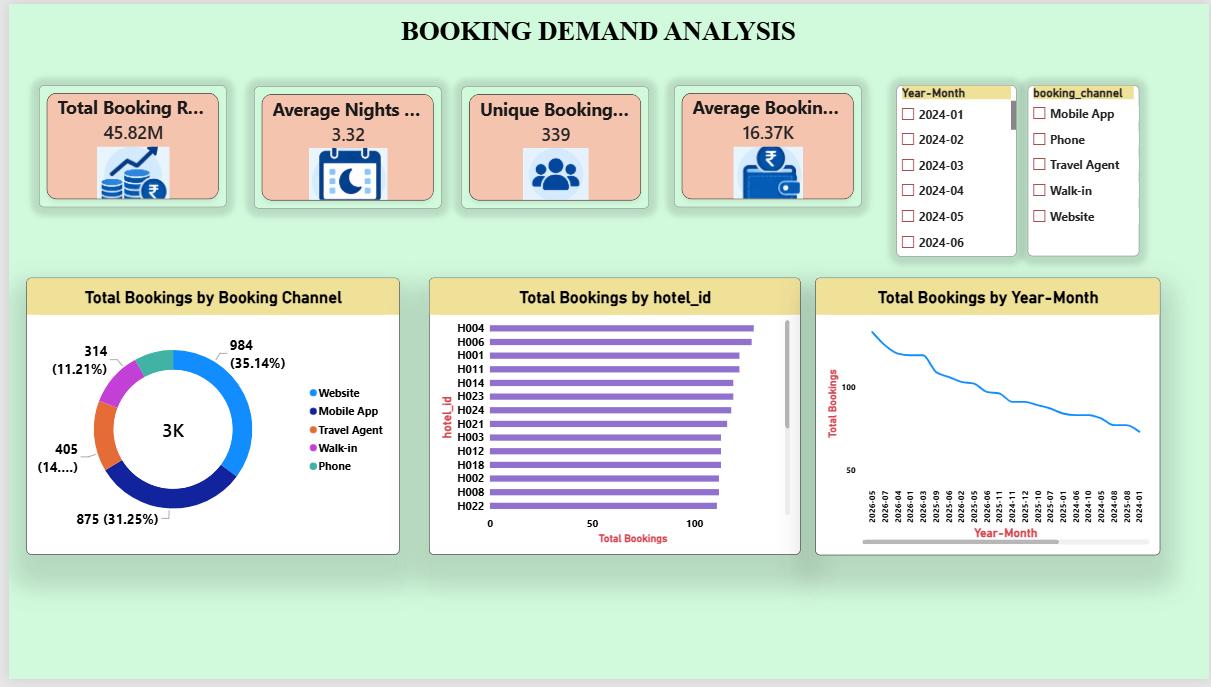

The dashboard page shown, as its layout file describes it:
{"tool":"powerbi","page":{"name":"Booking Demand Analysis","canvas":[1920,1080],"ordinal":2},"visuals":[{"type":"cardVisual","fields":{"Data":["bookings.Average Nights Booked"]},"box":[392.8,132.4,300,195.3],"z":0},{"type":"cardVisual","fields":{"Data":["bookings.Total Booking Revenue"]},"box":[48.8,130.4,300,195],"z":1000},{"type":"cardVisual","fields":{"Data":["bookings.Unique Booking Guests"]},"box":[724.8,132.4,300,195],"z":2000},{"type":"cardVisual","fields":{"Data":["bookings.Average Booking Value"]},"box":[1064.8,130.4,300,195],"z":3000},{"type":"donutChart","title":"Total Bookings by Booking Channel","fields":{"Category":["bookings.booking_channel"],"Y":["bookings.Total Bookings"]},"box":[28.8,437.9,596.5,443],"z":4000},{"type":"clusteredBarChart","fields":{"Category":["hotels.hotel_id"],"Y":["bookings.Total Bookings"]},"box":[672.8,438.4,594.8,443],"z":5000},{"type":"lineChart","fields":{"Category":["Date_Table.Year-Month"],"Y":["bookings.Total Bookings"]},"box":[1336.8,438.4,552,444],"z":6000},{"type":"slicer","fields":{"Values":["Date_Table.Year-Month"]},"box":[1420.8,130.4,192,274],"z":7000},{"type":"slicer","fields":{"Values":["bookings.booking_channel"]},"box":[1630,130,178.3,273.3],"z":8000},{"type":"textbox","box":[596,18,694,88],"z":8001}]}

Visuals, with their boxes in screenshot pixels (x1, y1, x2, y2), scaled from the page's 1920x1080 canvas onto the 1211x687 screenshot:
cardVisual - bookings.Average Nights Booked: 248:84:437:208
cardVisual - bookings.Total Booking Revenue: 31:83:220:207
cardVisual - bookings.Unique Booking Guests: 457:84:646:208
cardVisual - bookings.Average Booking Value: 672:83:861:207
"Total Bookings by Booking Channel" donutChart: 18:279:394:560
clusteredBarChart - hotels.hotel_id x bookings.Total Bookings: 424:279:800:561
lineChart - Date_Table.Year-Month x bookings.Total Bookings: 843:279:1191:561
slicer - Date_Table.Year-Month: 896:83:1017:257
slicer - bookings.booking_channel: 1028:83:1141:257
textbox: 376:11:814:67
